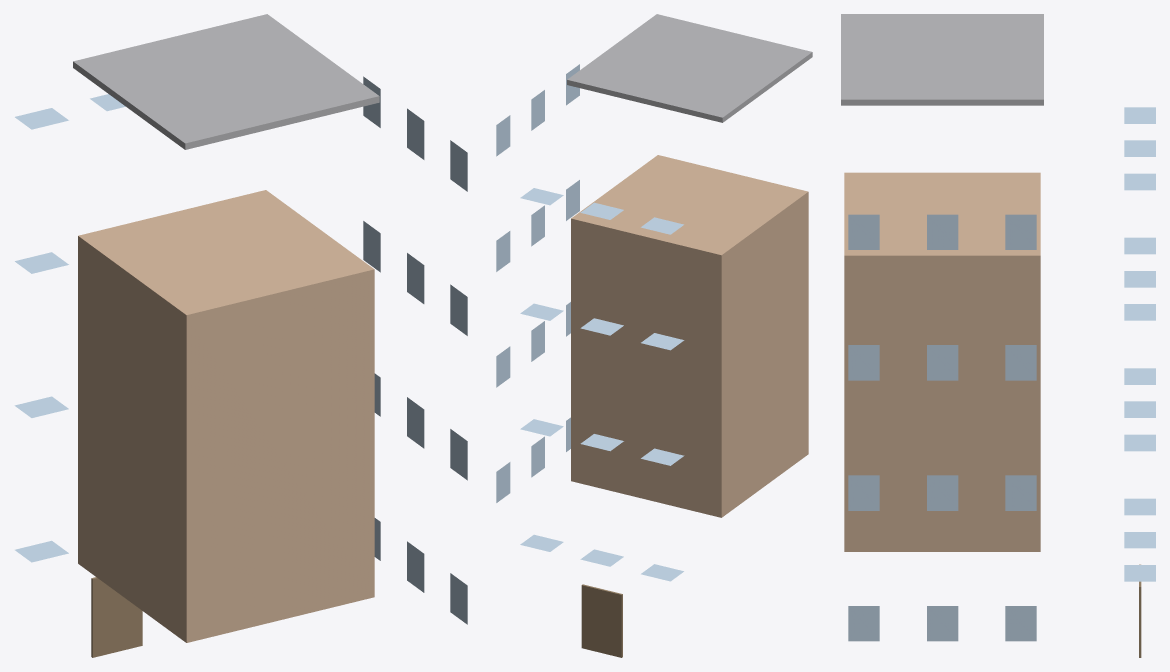
File: mesh_building_shop.fbx
3 renders of one model, left to right at view 1: azimuth 30°, elevation 25°; view 2: azimuth 150°, elevation 25°; view 3: azimuth 270°, elevation 25°, orthographic. The views are drawn at different scales.
Visible parts, largest first — view 1: mesh_building_shop; view 2: mesh_building_shop; view 3: mesh_building_shop.
Part boxes in pixels (x1=…): mesh_building_shop: x1=14, y1=14, x2=467, y2=657; mesh_building_shop: x1=496, y1=14, x2=812, y2=657; mesh_building_shop: x1=841, y1=14, x2=1155, y2=657.
Size of the model in its own units: 2.28 by 4.98 by 2.4.
